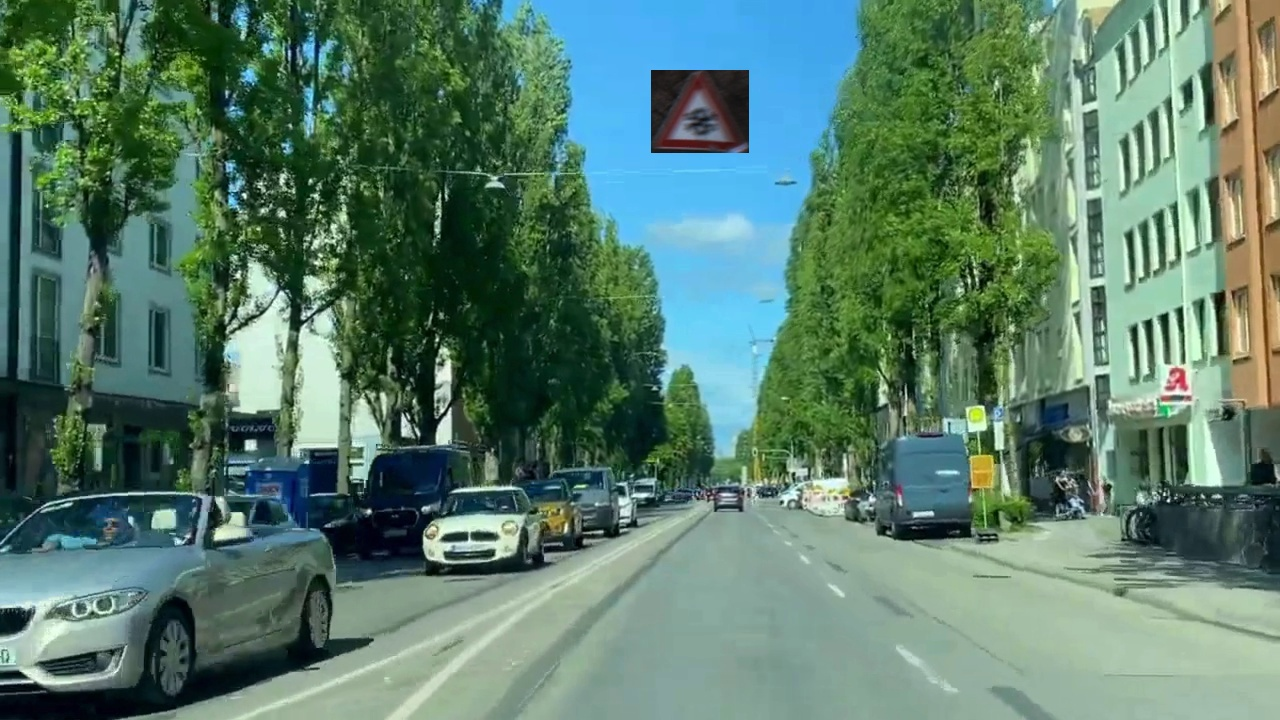Ice/snow: (651, 70, 749, 153)
